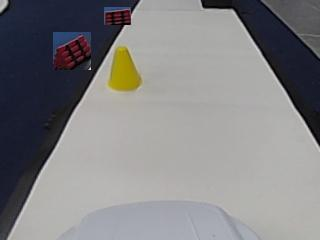cone: (107, 48, 141, 90)
